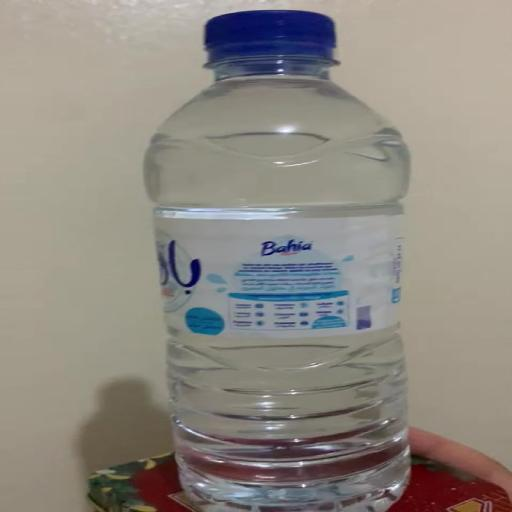bouteille conformite: (158, 7, 437, 512)
